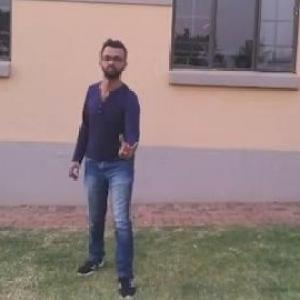takeoff-hand: (114, 130, 142, 163)
